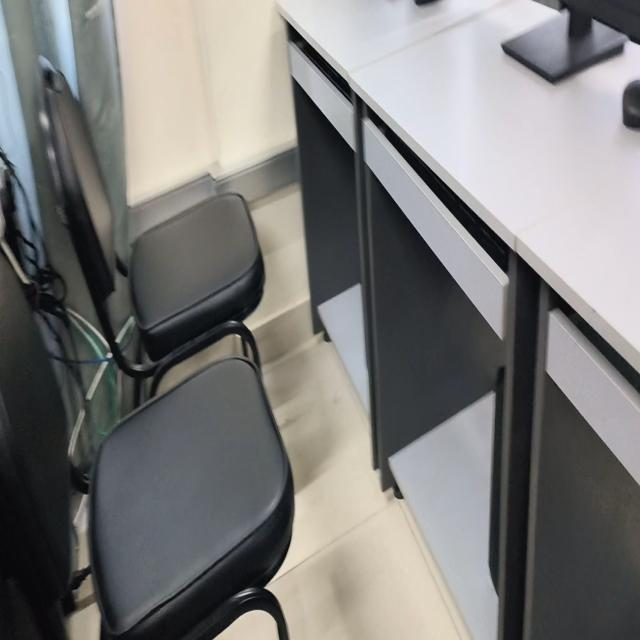Chair: (0, 246, 296, 639), (40, 63, 265, 380)
Cpu: (488, 367, 504, 591), (623, 79, 640, 130)
Monitor: (502, 0, 640, 83)
